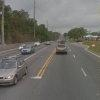Car: (1, 51, 30, 91)
